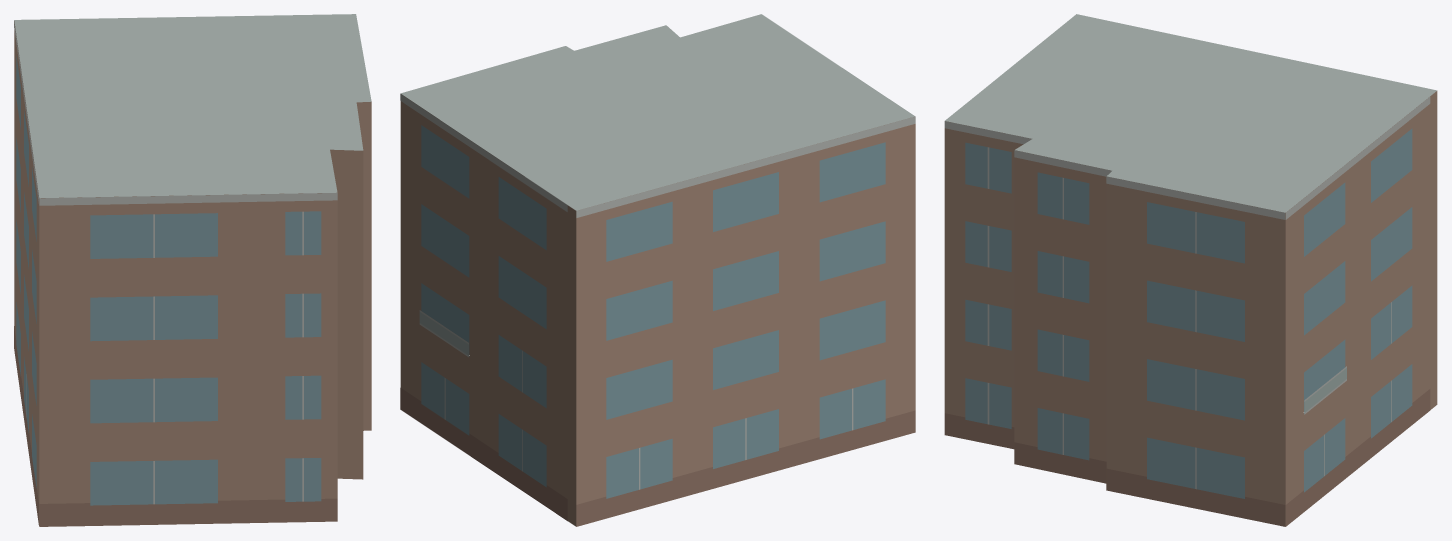
File: survey-upis-32503812.glb
3 renders of one model, left to right at view 1: azimuth 30°, elevation 25°; view 2: azimuth 150°, elevation 25°; view 3: azimuth 270°, elevation 25°, orthographic. The views are drawn at different scales.
Visible parts, largest first — view 1: survey-upis-32503812.tmp; view 2: survey-upis-32503812.tmp; view 3: survey-upis-32503812.tmp.
Part boxes in pixels (x1,y1,x2,y2): survey-upis-32503812.tmp: (14,14,371,526); survey-upis-32503812.tmp: (400,14,915,526); survey-upis-32503812.tmp: (944,14,1437,526).
Bounding box in the file's own units: 14.26 × 10.5 × 14.94.
